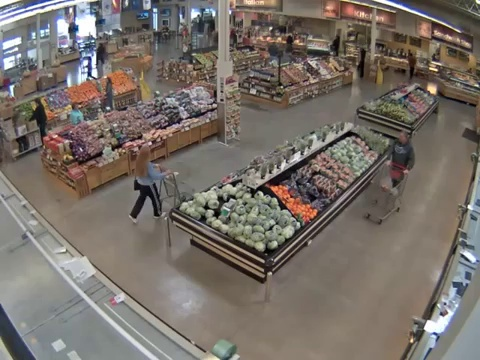face: (399, 130, 408, 143)
